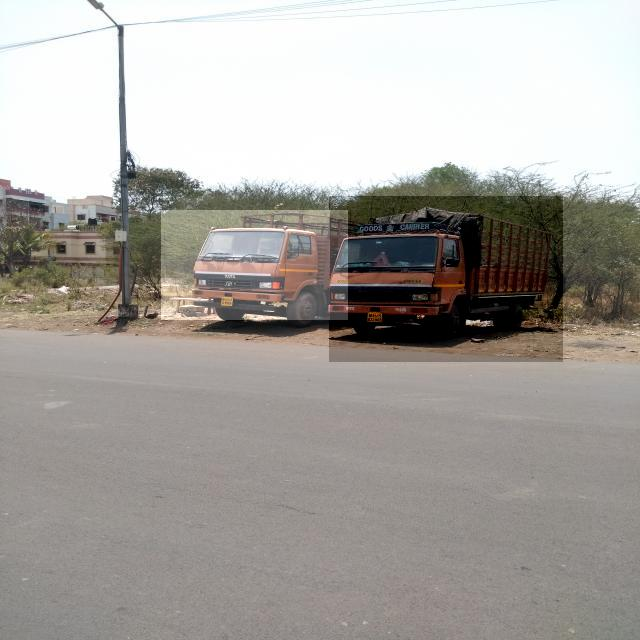Truck: (330, 196, 564, 362), (161, 210, 348, 320)
